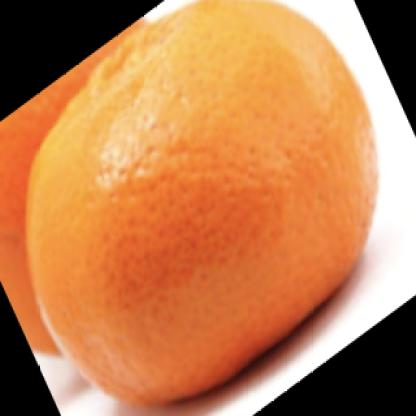fresh: (29, 4, 380, 405)
